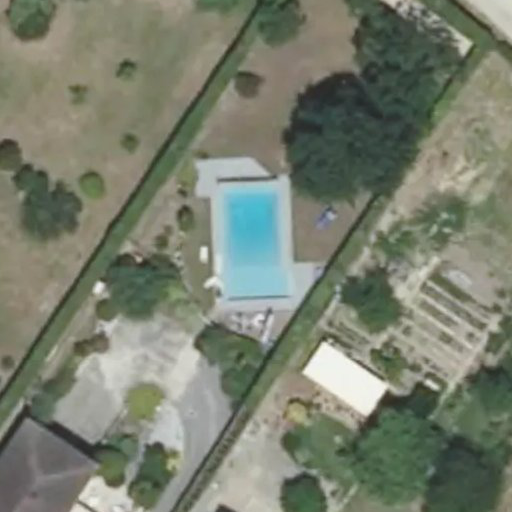pool: (221, 187, 289, 295)
